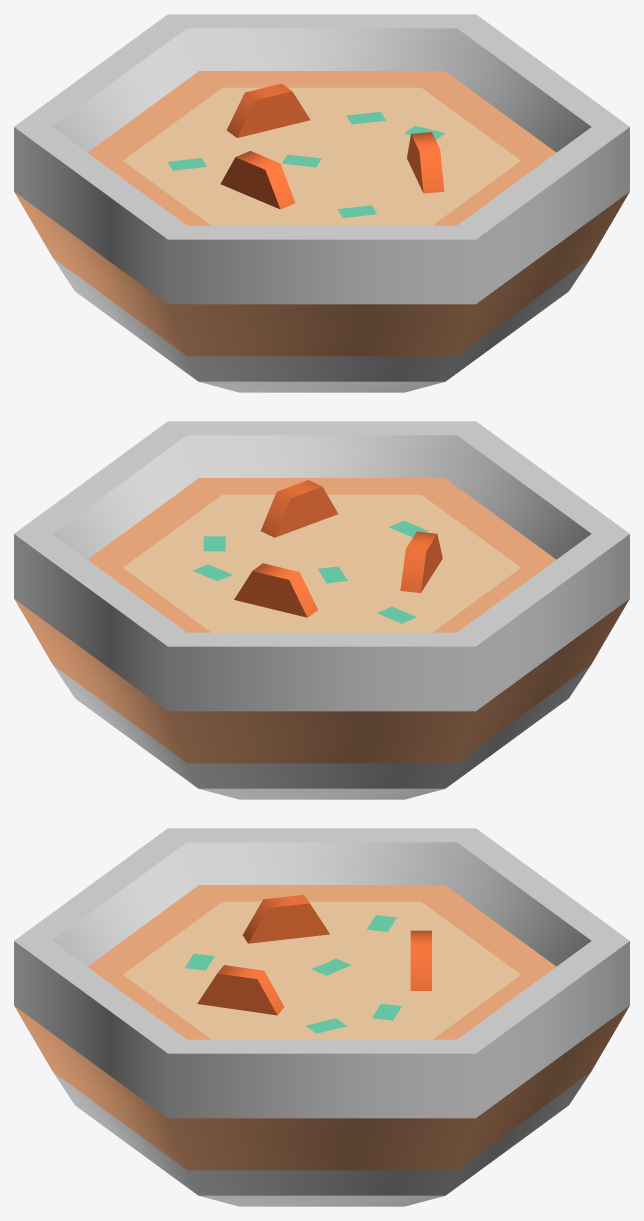
The model's file is Bowl Soup.glb.
The picture shows the model from 3 angles, top to bottom: view 1: azimuth 30°, elevation 25°; view 2: azimuth 150°, elevation 25°; view 3: azimuth 270°, elevation 25°; orthographic projection.
Visible parts, largest first — view 1: Bowl Soup; view 2: Bowl Soup; view 3: Bowl Soup.
Part boxes in pixels (<box>): Bowl Soup: <box>14,14,629,392</box>; Bowl Soup: <box>14,421,629,799</box>; Bowl Soup: <box>14,828,629,1206</box>.
Size of the model in its own units: 0.5022 by 0.2138 by 0.5798.
